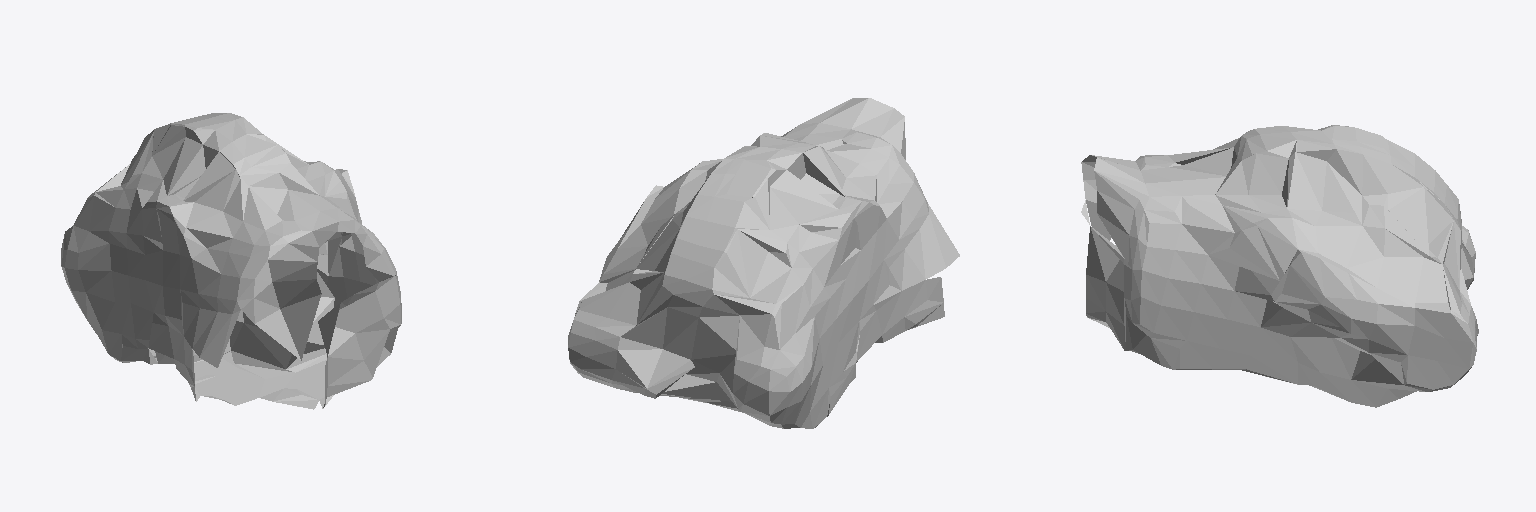
Rendered from sim_ecub_1-0_l_hand_index_1.obj.
The picture shows the model from 3 angles: view 1: azimuth 30°, elevation 25°; view 2: azimuth 150°, elevation 25°; view 3: azimuth 270°, elevation 25°; orthographic projection.
Size of the model in its own units: 22.87 by 21.35 by 33.28.